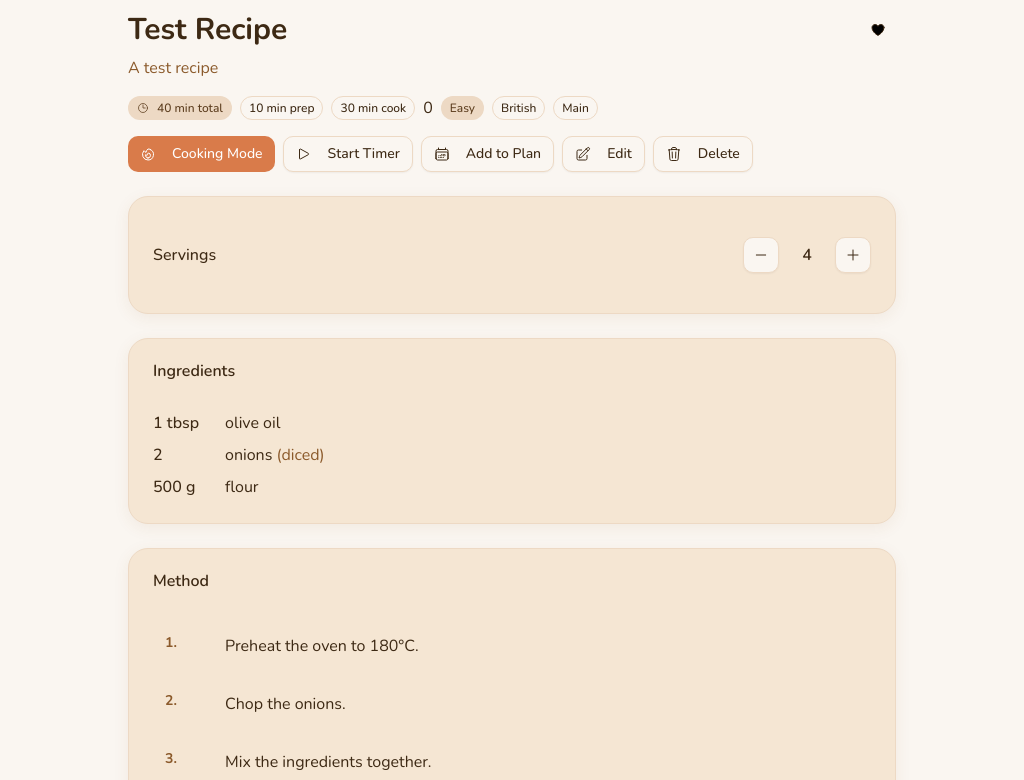
Test: Cooking Mode Step Checkboxes › shows checkboxes for non-empty instruction lines in cooking mode
The image size is (1024, 780).
Click the button "Cooking Mode".
click(201, 154)  # box [128, 136, 275, 172]
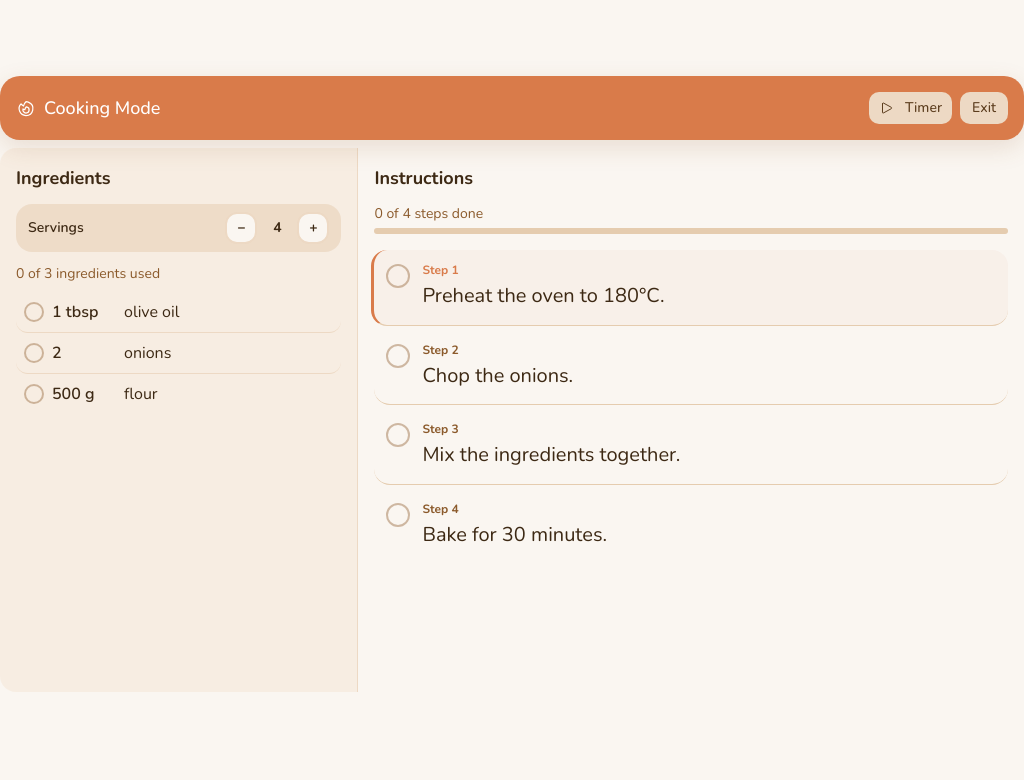
Now the checkbox named "Step 1: Preheat the oven to 180°C." is shown, box [371, 250, 1008, 326]
Now the checkbox named "Step 2: Chop the onions." is shown, box [374, 330, 1008, 405]
Now the checkbox named "Step 3: Mix the ingredients together." is shown, box [374, 409, 1008, 484]
